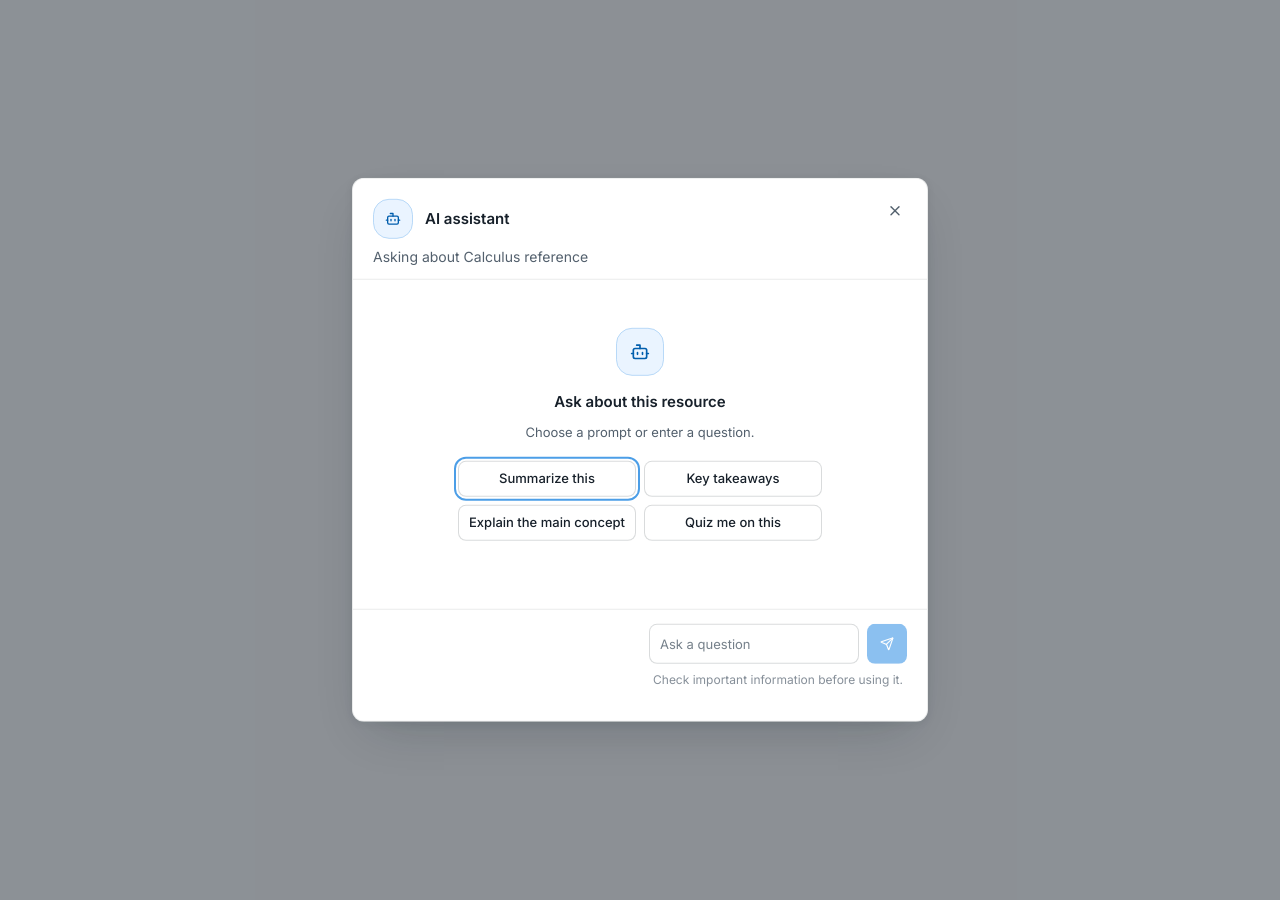
it: AIChatDialog › renders unsafe javascript: links as plain text
What coordinates should you click on to do the following:
click the button "Summarize this"
I would click on:
 (547, 479)
Its box is top-left (458, 461), bottom-right (636, 497).
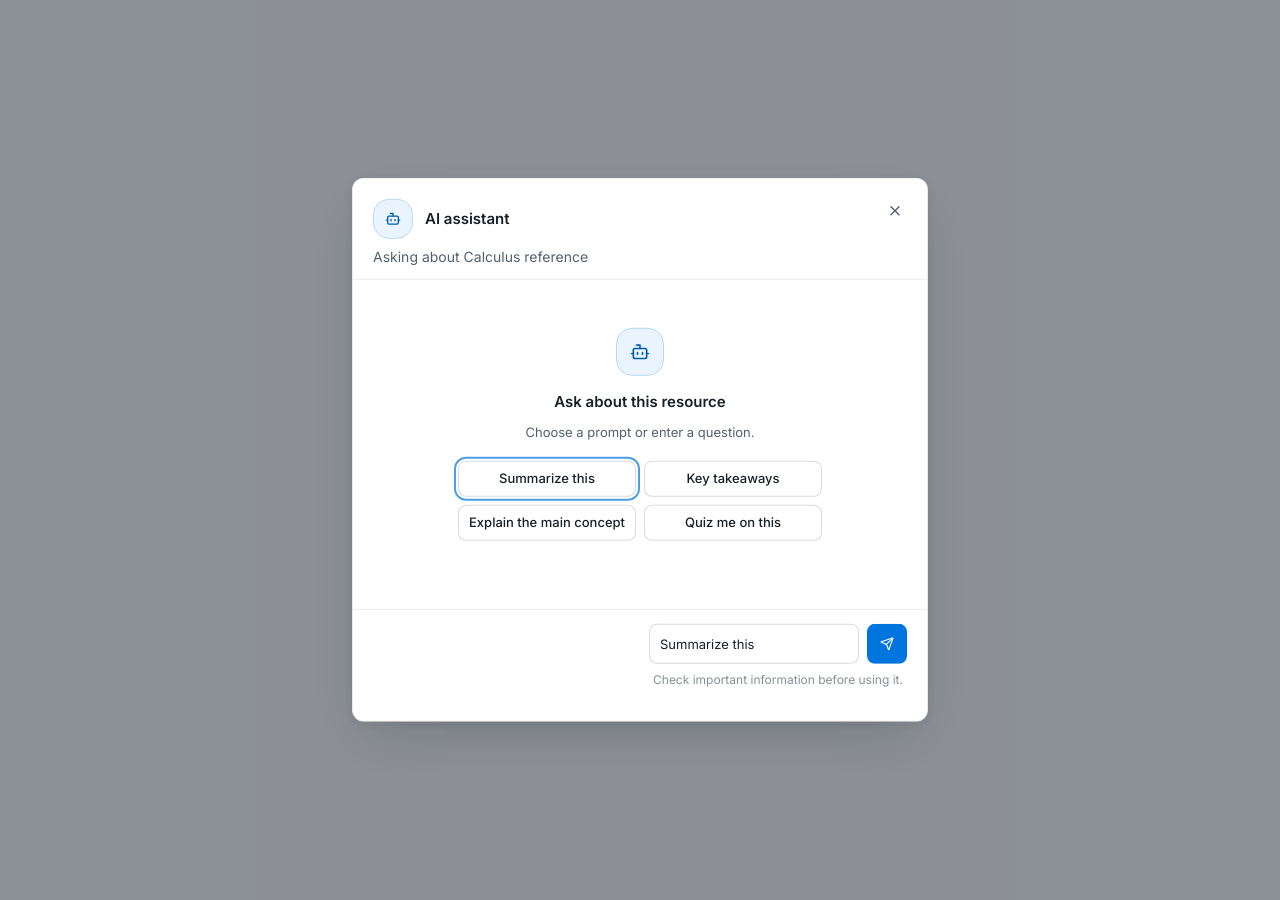
What coordinates should you click on to do the following:
click the button named "Send message"
I would click on:
 (887, 644)
Its box is top-left (867, 624), bottom-right (907, 664).
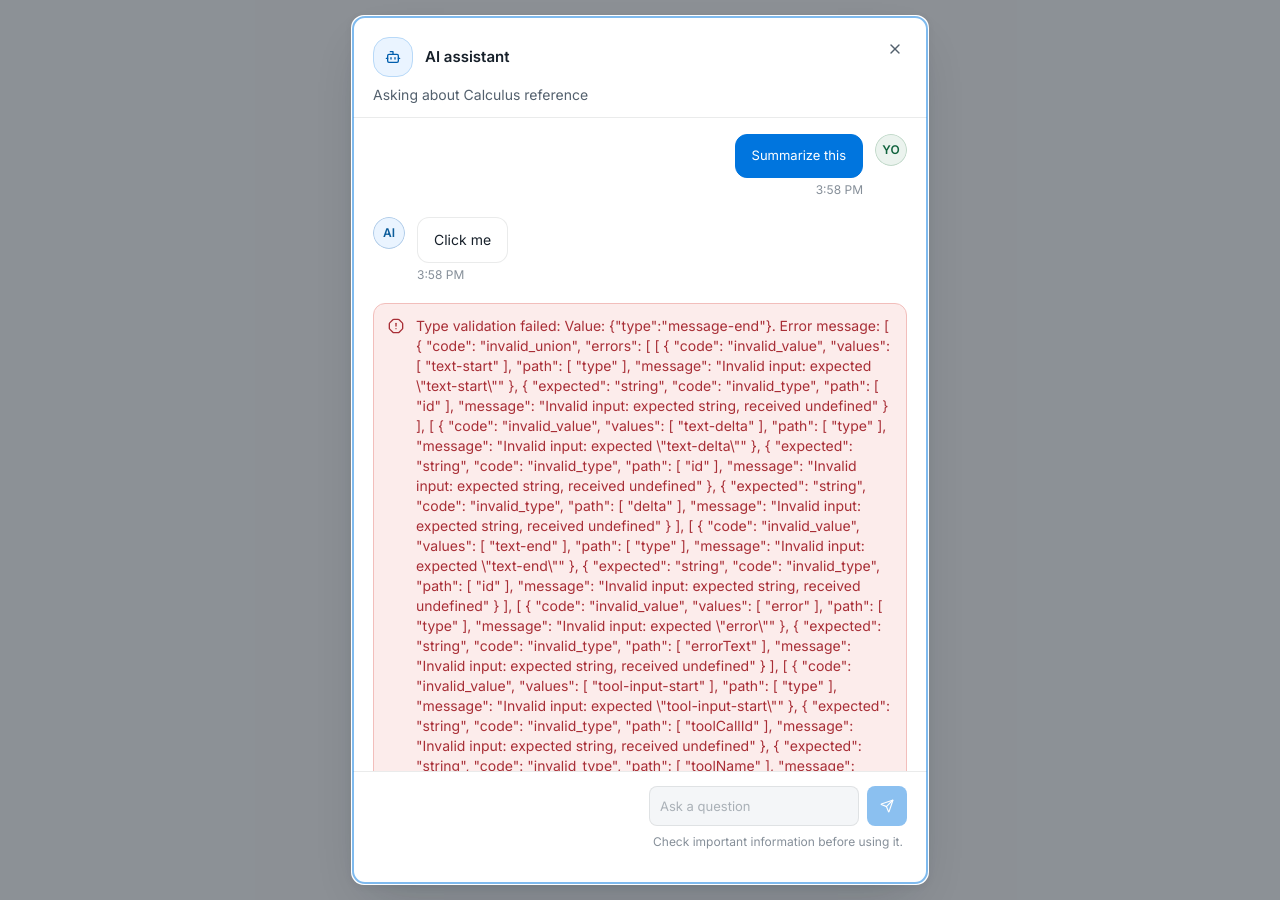
expect the text "Click me" is shown: met, box top-left (434, 231), bottom-right (491, 248)
